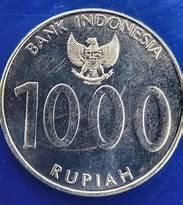coin_1000_e2010: (0, 7, 183, 195)
